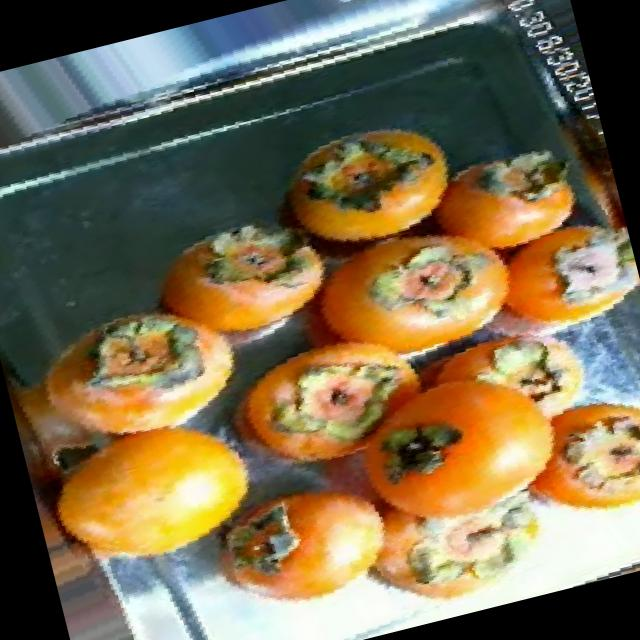Fruit: (42, 384, 286, 594)
